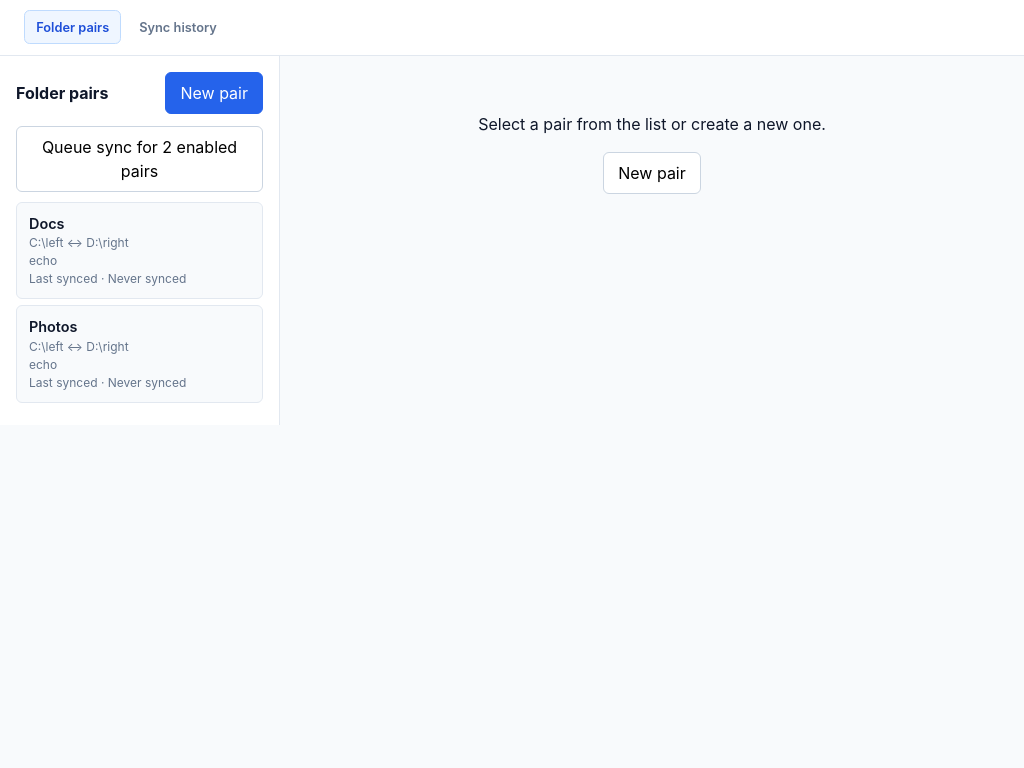
Test: sync queue view › shows run status above the pair details grid
Click the button "Docs C:\\left ↔ D:\\right echo Last synced · Never synced". click: (140, 251)
box: [16,202,263,299]
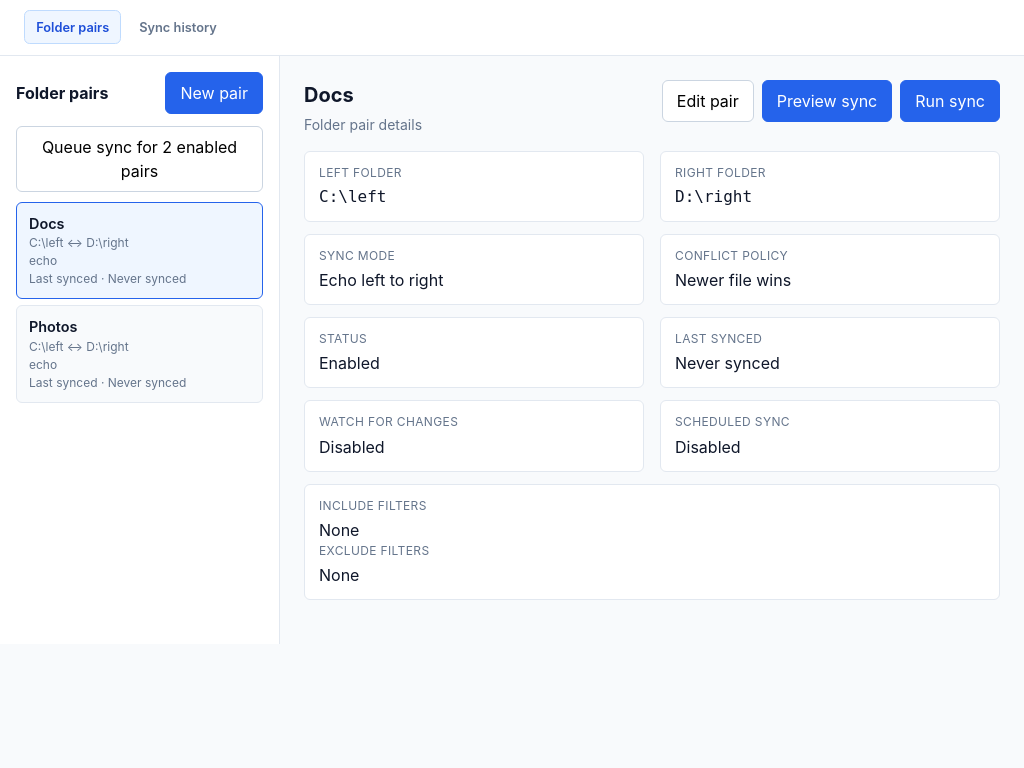
Click the button "Run sync". click: (950, 101)
box: [900,80,1000,122]
(page scrolled)
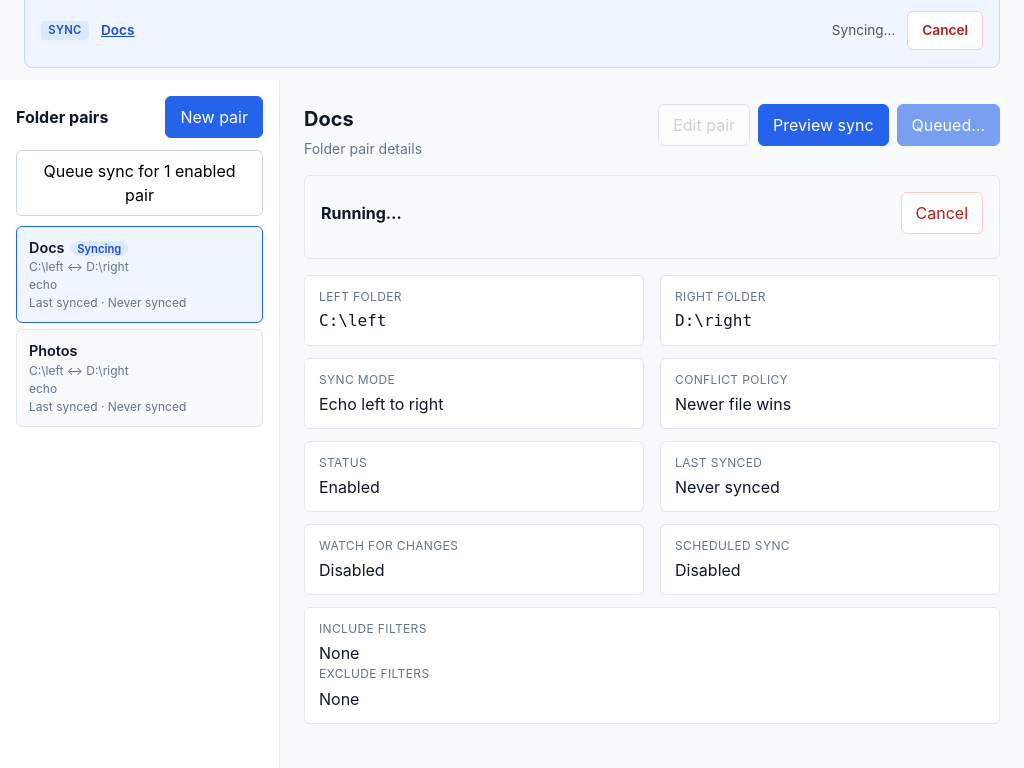
Expected: the element that starts with "Left folder" is shown, [304,274,1000,724]
Expected: the element with class "run-progress" is shown, [304,174,1000,258]
